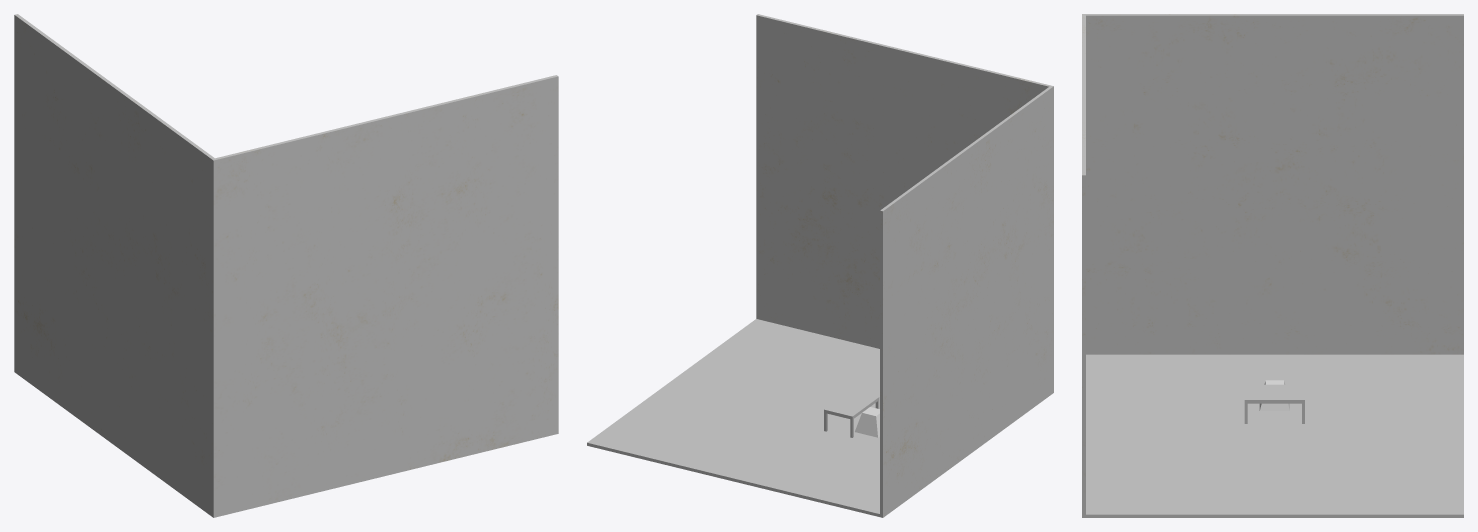
3 views of the same model, side by side, from view 1: azimuth 30°, elevation 25°; view 2: azimuth 150°, elevation 25°; view 3: azimuth 270°, elevation 25° (orthographic). The views are drawn at different scales.
Parts seen in each view (by area): view 1: wall; view 2: wall, floor, table, Robot_support; view 3: wall, floor, table.
Boxes of the visible parts, x1,y1,x2,y2 form: wall: (14,14,558,517); wall: (756,14,1053,517); floor: (587,319,879,516); table: (824,390,879,437); Robot_support: (855,407,879,437); wall: (1082,14,1463,517); floor: (1086,354,1463,517); table: (1244,384,1304,423).
Size of the model in its own units: 10.1 by 10.1 by 10.
